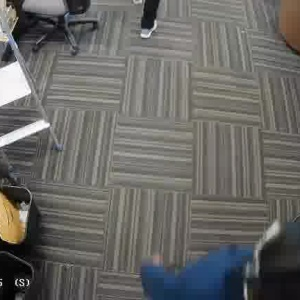person: (172, 214, 300, 300)
